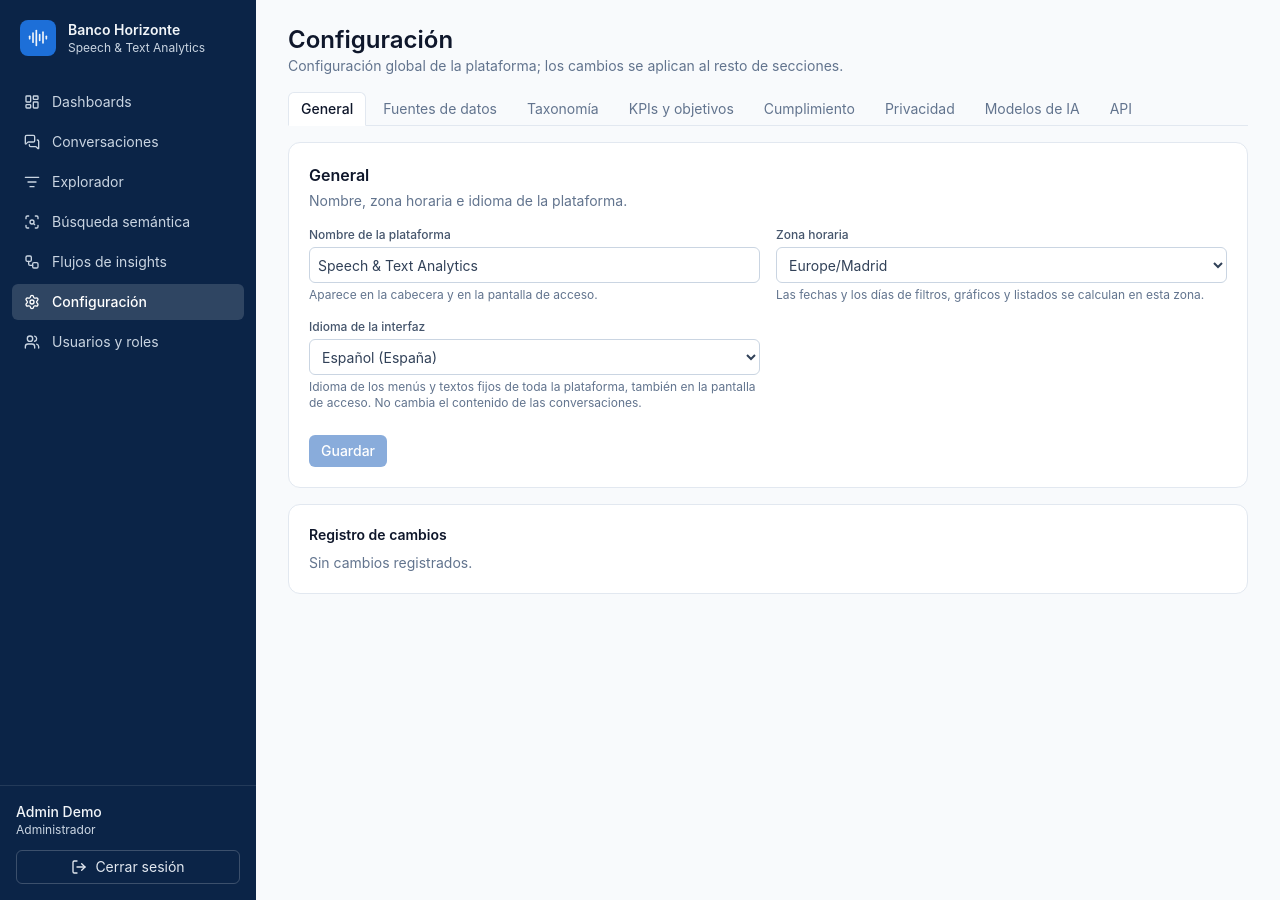
Scenario: Configuración: General › un 422 muestra el error junto a cada campo y conserva lo escrito
The width and height of the screenshot is (1280, 900).
Click the tab "General" at {"x": 327, "y": 109}, box [288,92,366,126]
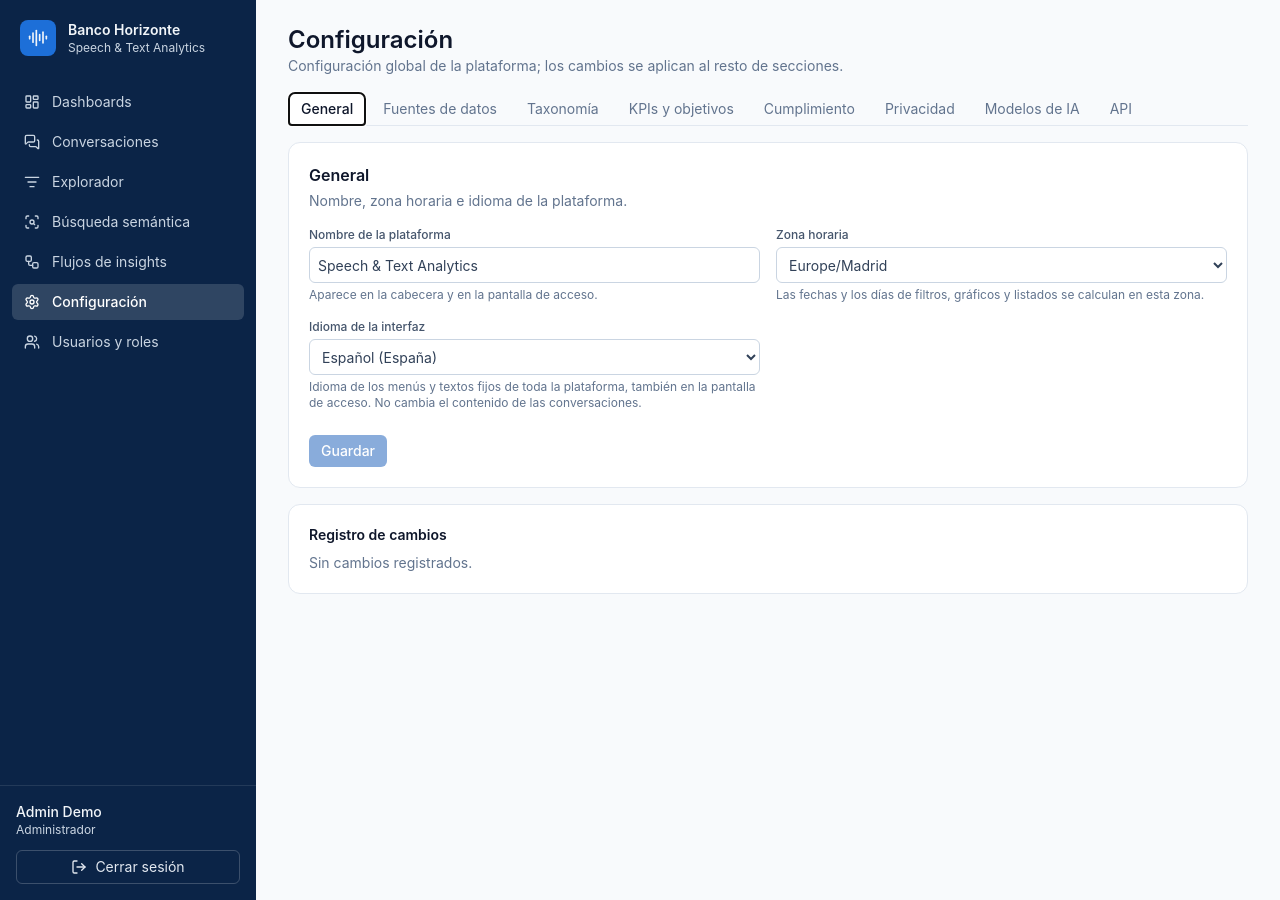
Replace the text in the field labelled "Nombre de la plataforma" with "Un nombre larguísimo" at {"x": 534, "y": 265}, box [309,247,760,283]
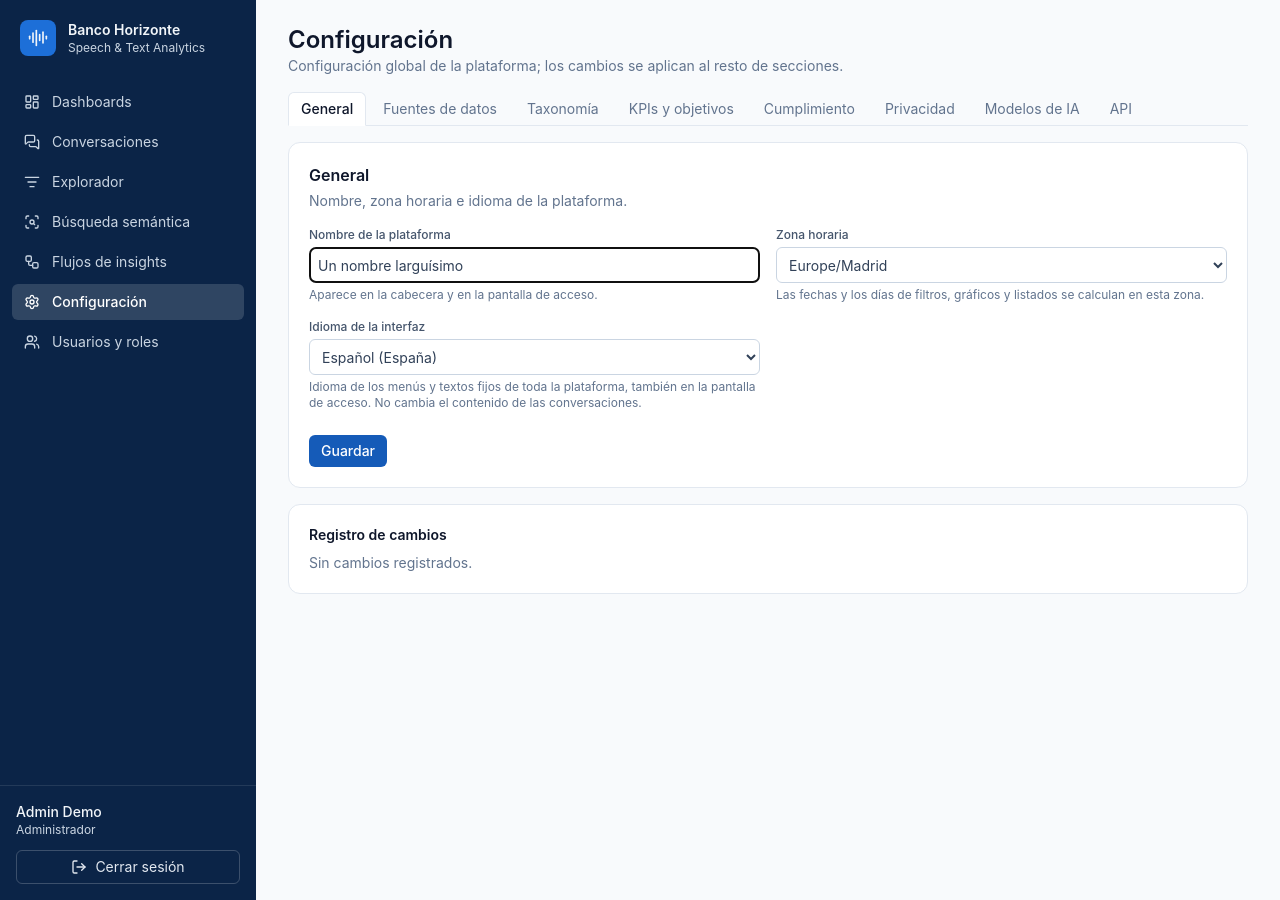
Click the button "Guardar" at {"x": 348, "y": 451}, box [309,435,387,467]
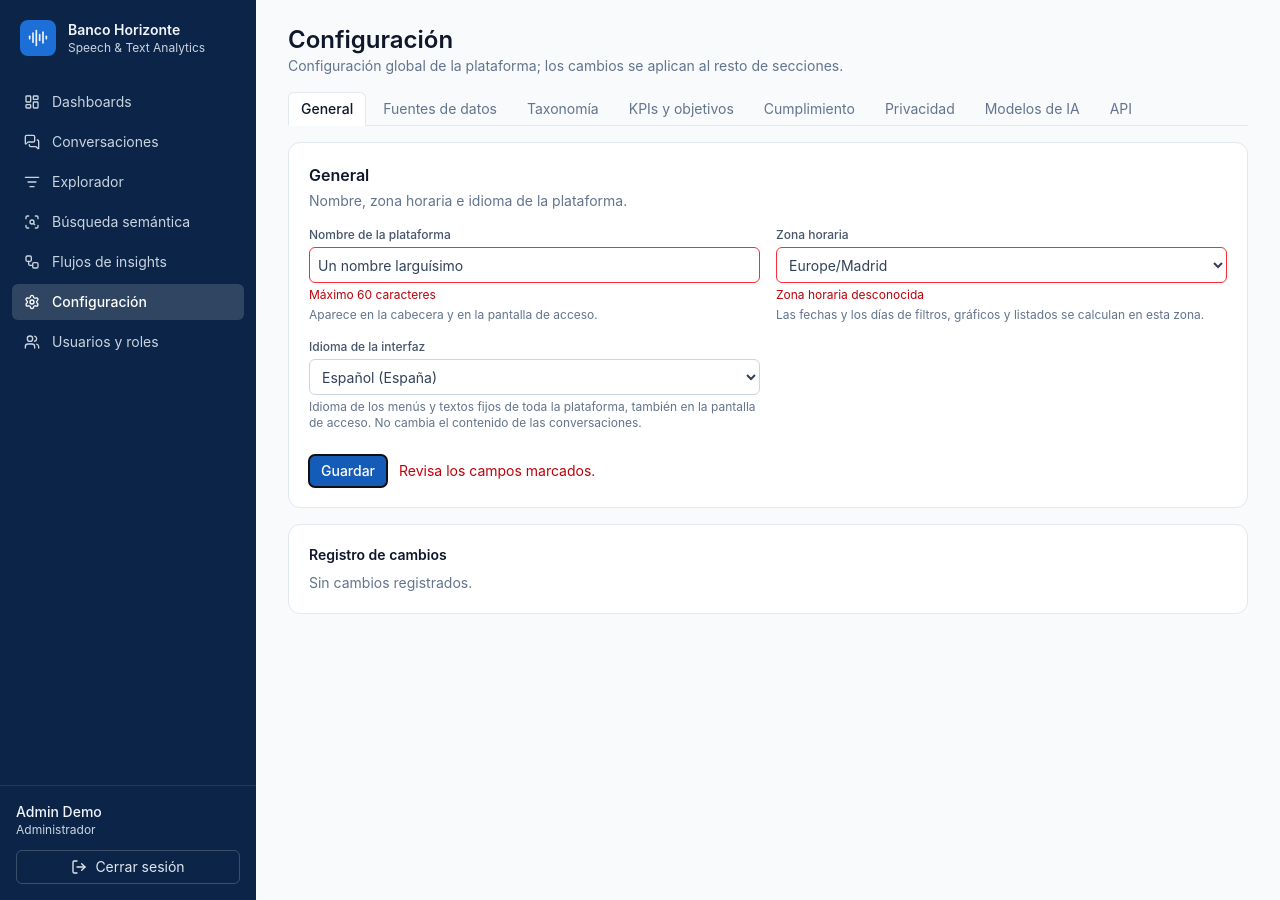
Result: the text "Máximo 60 caracteres" is shown at [309,287,436,302]
